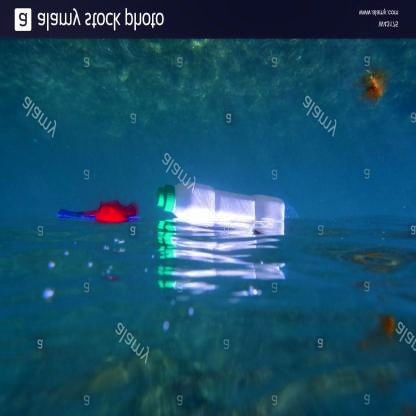pbottle: (152, 176, 287, 251)
